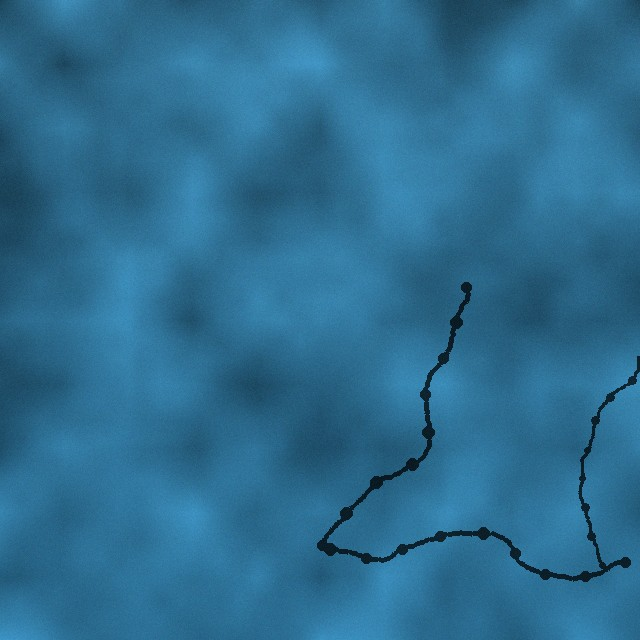crack: (315, 276, 475, 552), (323, 525, 632, 586), (574, 351, 639, 570)
